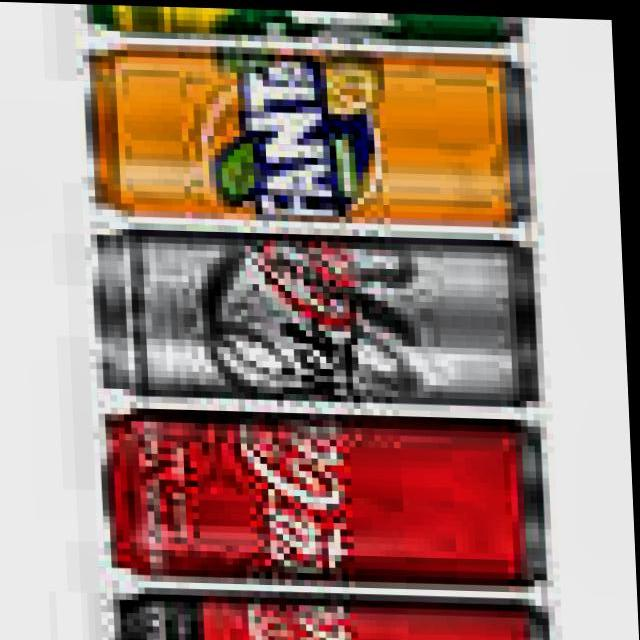litter: (81, 34, 543, 229), (86, 217, 552, 410), (92, 398, 554, 592), (106, 581, 554, 640), (82, 2, 536, 47)
